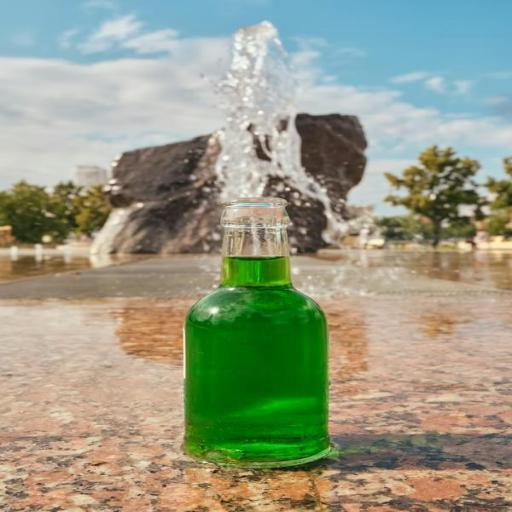bottle: (162, 189, 352, 483)
